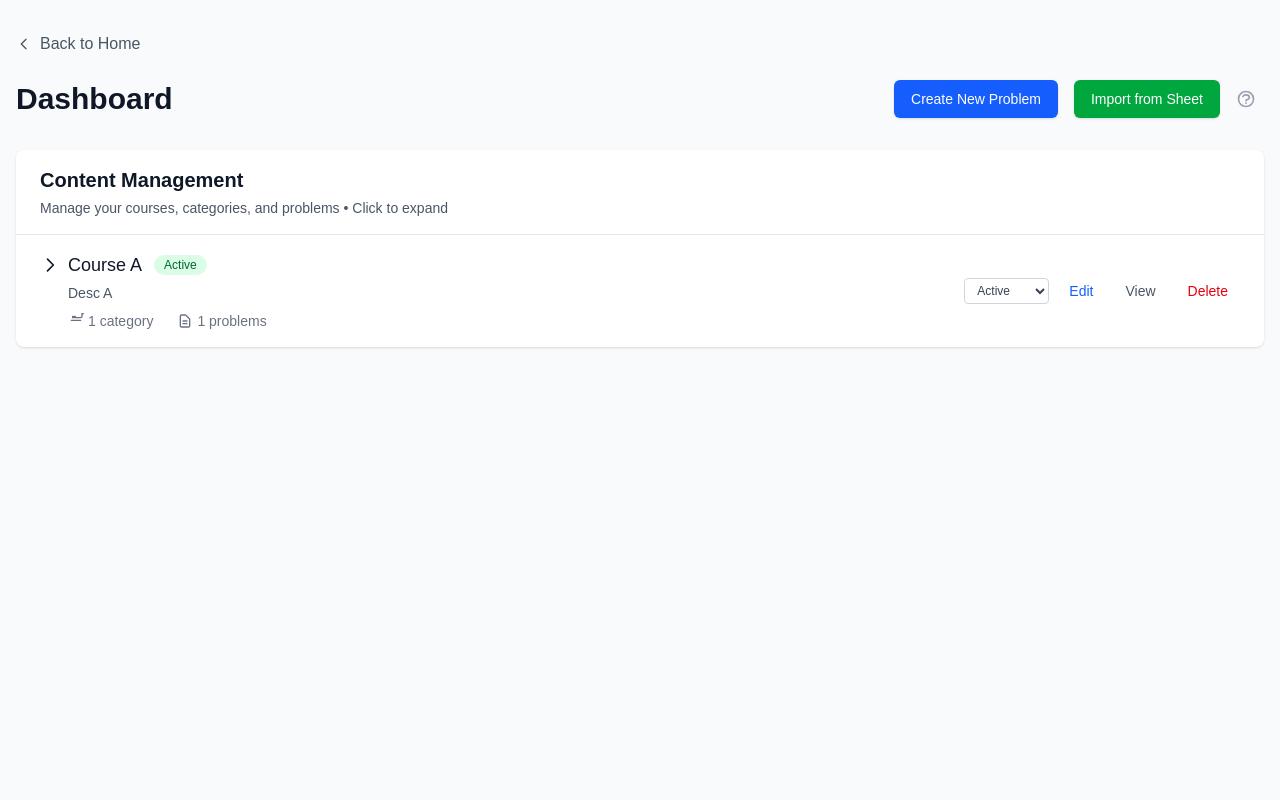
Test: TeacherClient › displays error on failed delete
This screenshot has width=1280, height=800.
Click the button "Course A" at [91, 265], box [40, 251, 142, 279]
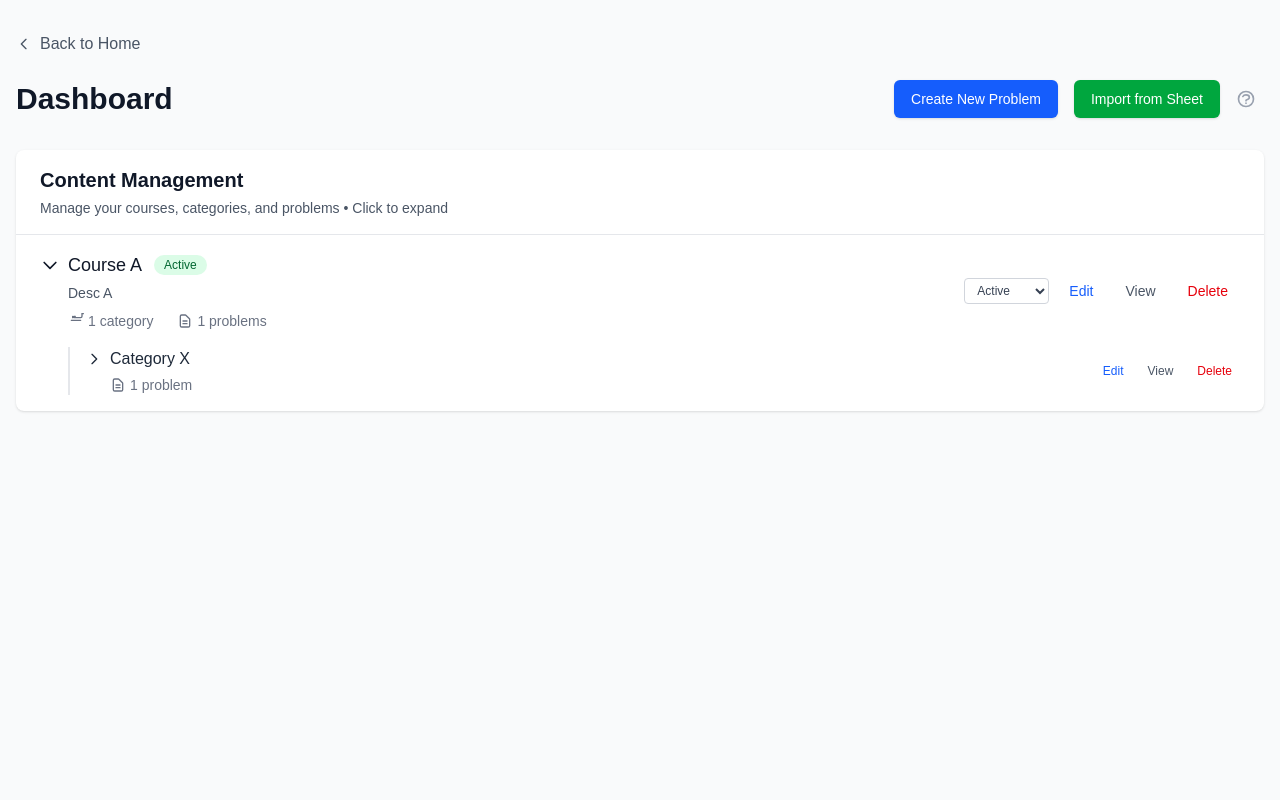
Click the 2nd button "Delete" at [1215, 371], box [1189, 359, 1240, 383]
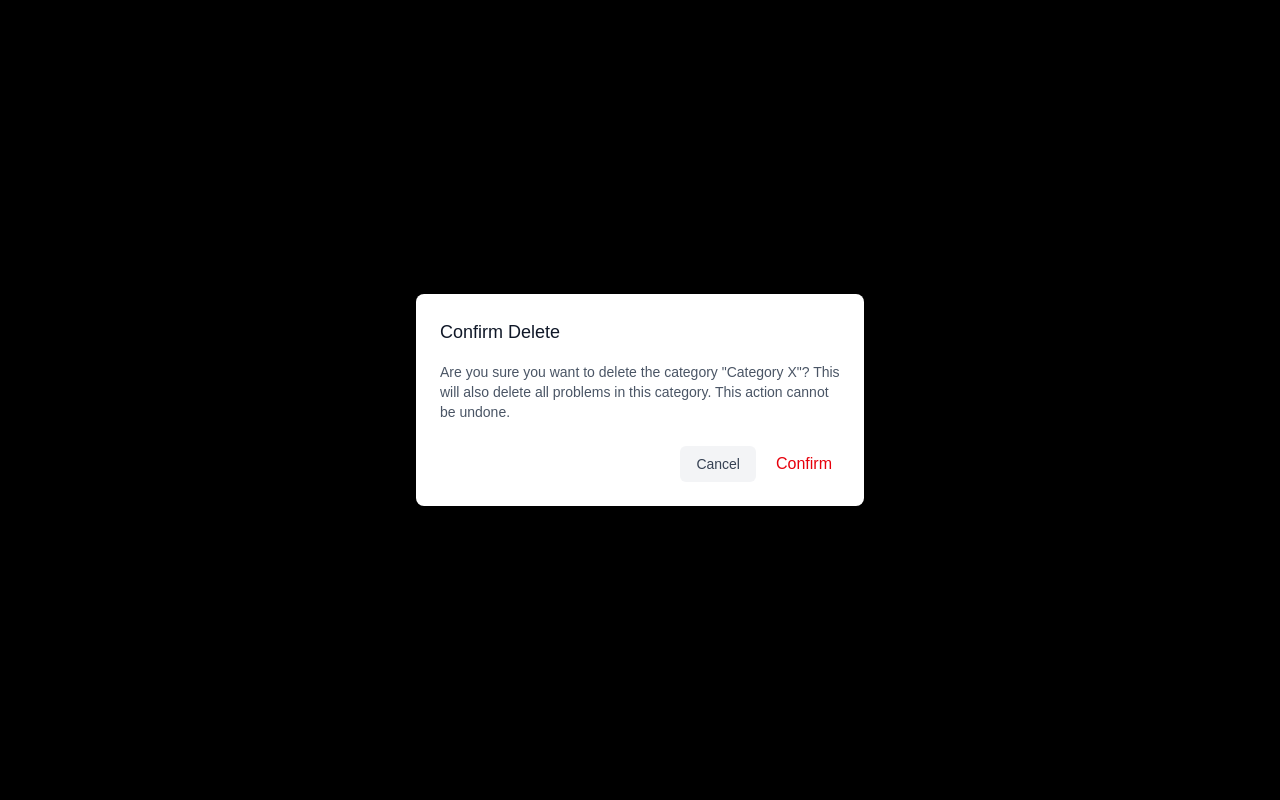
Click the button "Confirm" at [804, 464], box [768, 446, 840, 482]
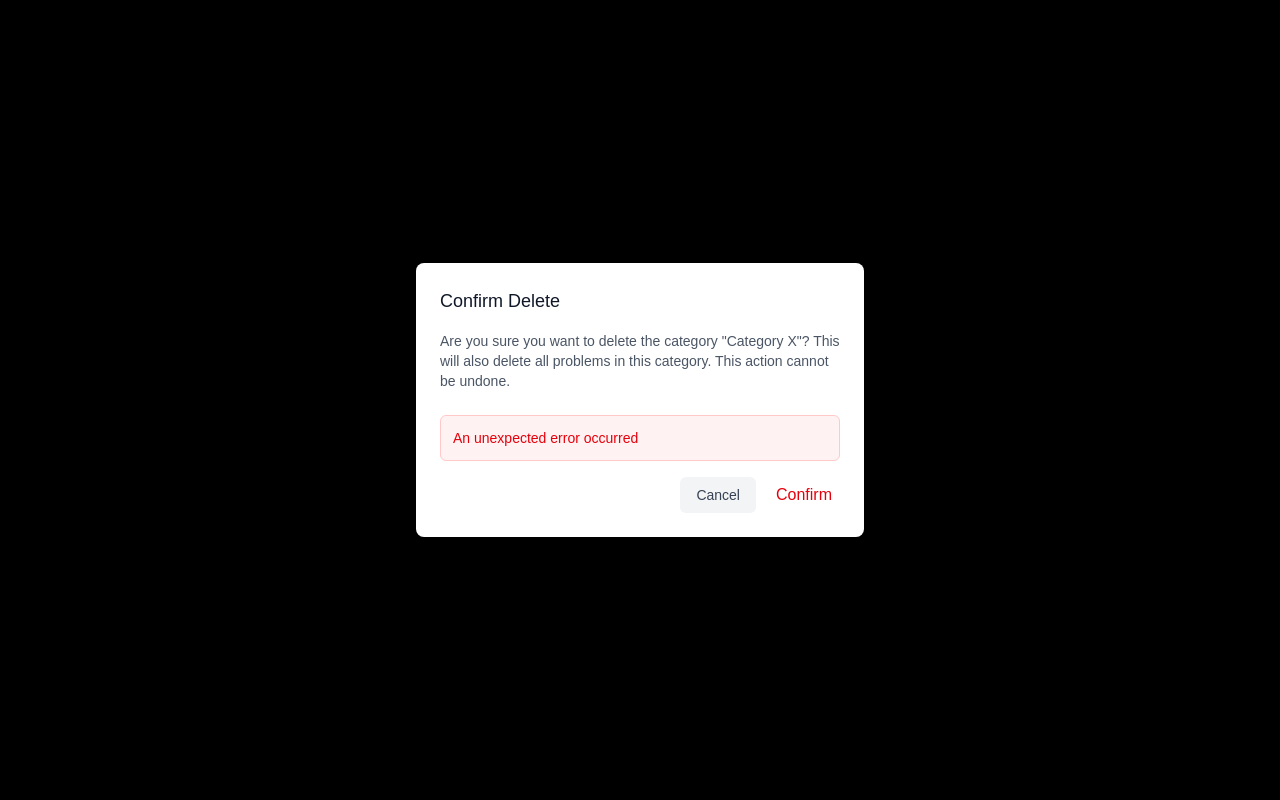
Expected: the text "An unexpected error occurred" is shown, [453, 430, 638, 446]
